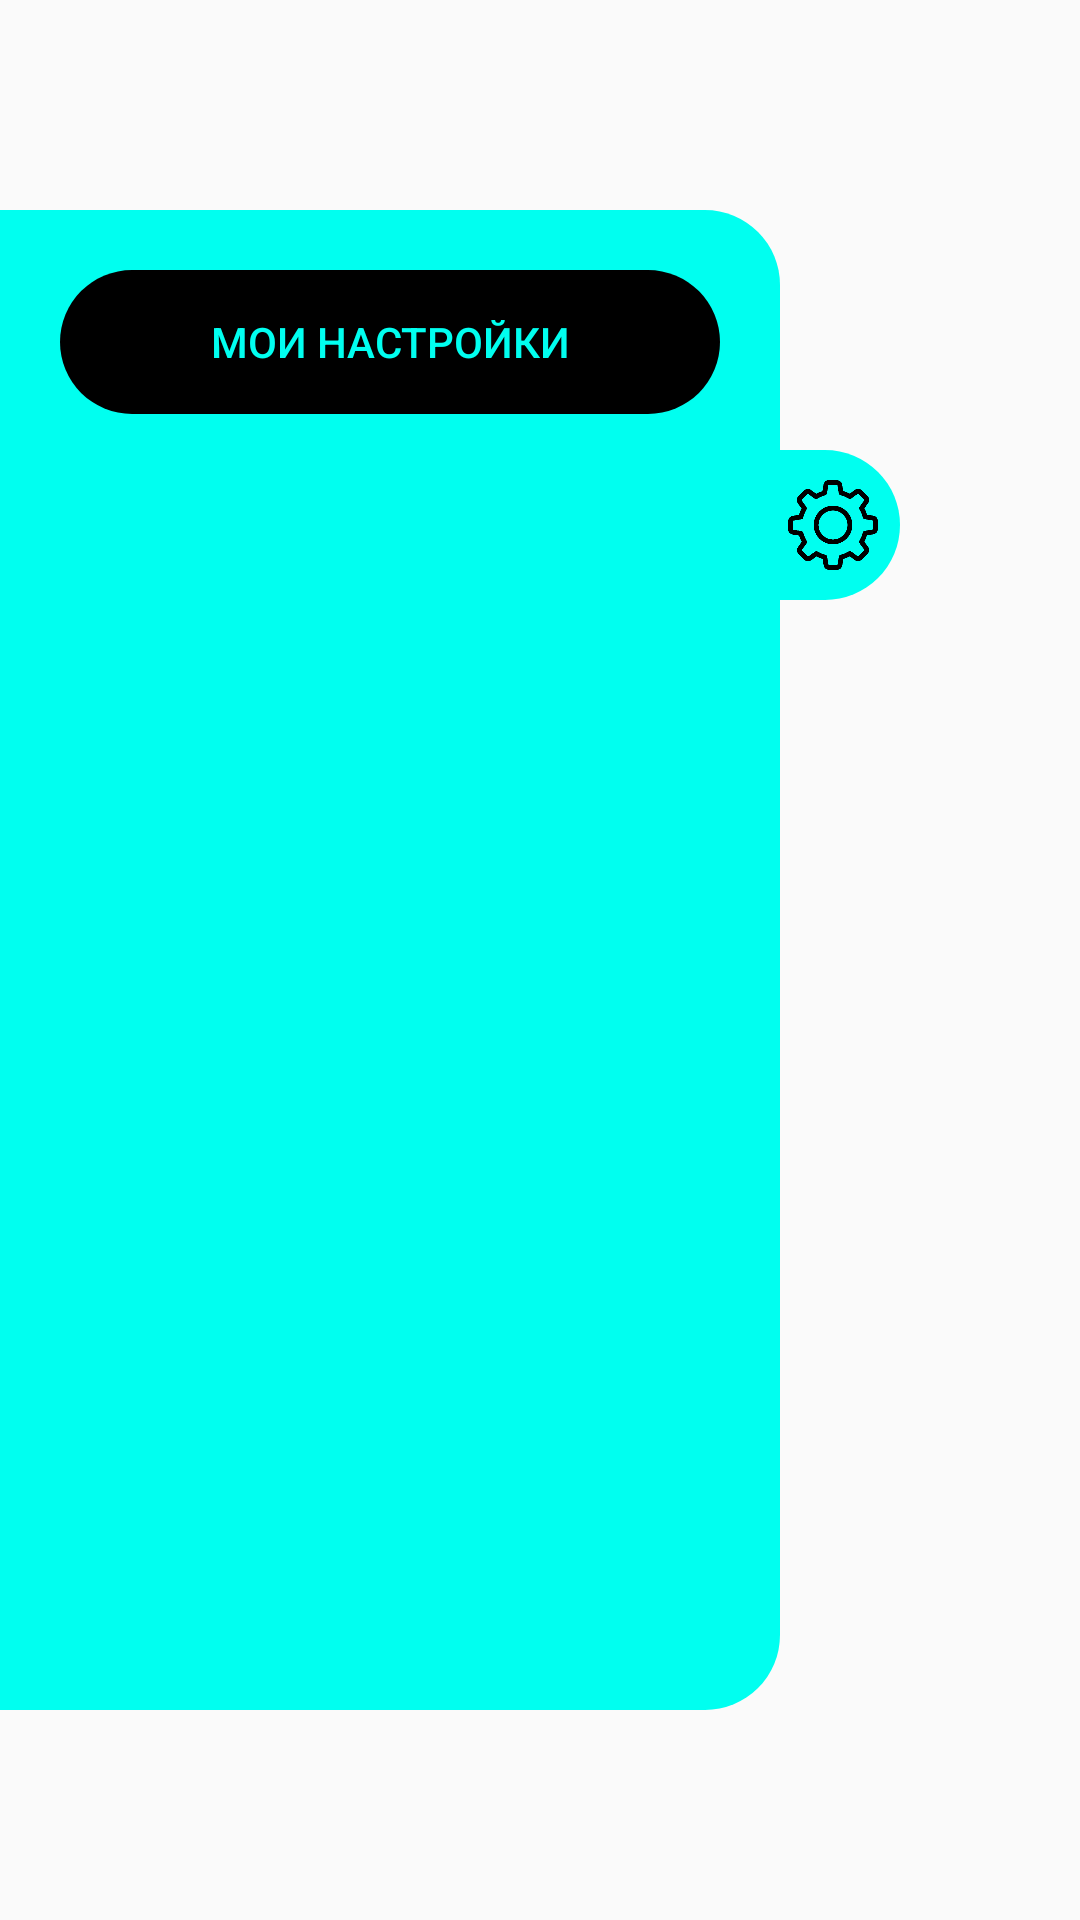

Icons on this 1080px x 1920px Android screen, each with its box as (x1, y1, x2, y2):
gear: (788, 480, 878, 570)
